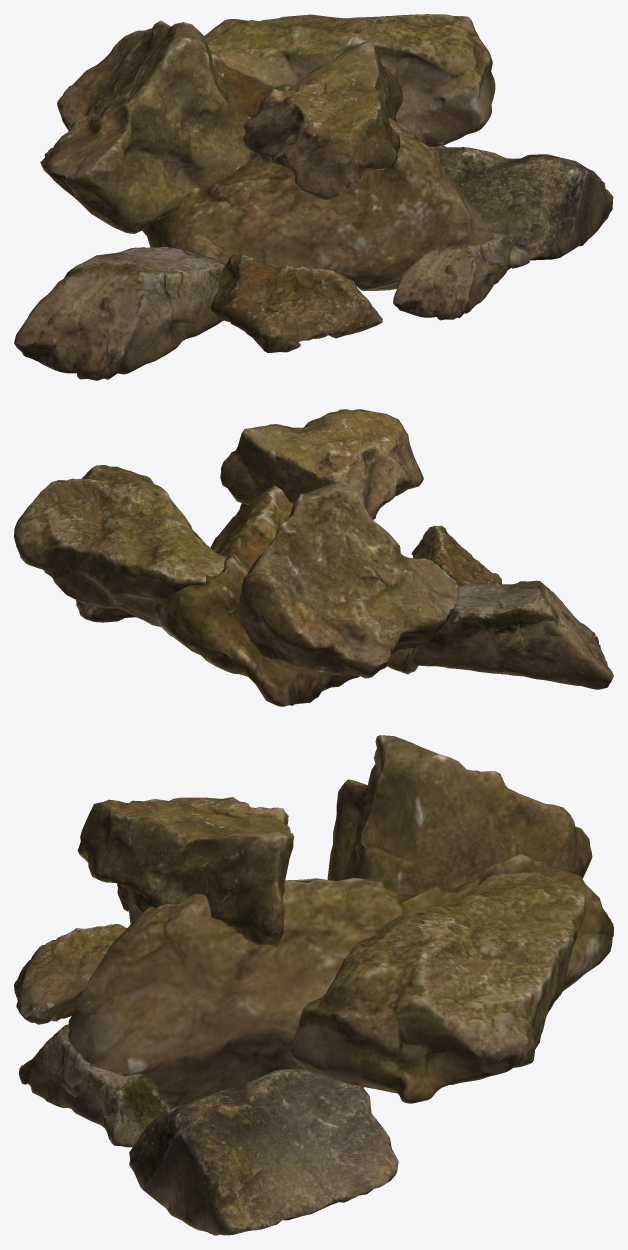
File: minerocks.glb
3 renders of one model, top to bottom at view 1: azimuth 30°, elevation 25°; view 2: azimuth 150°, elevation 25°; view 3: azimuth 270°, elevation 25°, orthographic. The views are drawn at different scales.
Visible parts, largest first — view 1: rock_moss_set_01_rock01.001, rock_moss_set_01_rock04.001, rock_moss_set_01_rock05.001, rock_moss_set_01_rock02.001, rock_moss_set_01_rock06.001, rock_moss_set_01_rock03.001, rock_moss_set_01_rock01.002, rock_moss_set_01_rock02.002; view 2: rock_moss_set_01_rock04.001, rock_moss_set_01_rock05.001, rock_moss_set_01_rock06.001, rock_moss_set_01_rock01.001, rock_moss_set_01_rock02.001, rock_moss_set_01_rock01.002, rock_moss_set_01_rock03.001; view 3: rock_moss_set_01_rock01.001, rock_moss_set_01_rock05.001, rock_moss_set_01_rock03.001, rock_moss_set_01_rock04.001, rock_moss_set_01_rock06.001, rock_moss_set_01_rock02.002, rock_moss_set_01_rock01.002.
Part boxes in pixels (<box>): rock_moss_set_01_rock01.001: <box>138,49,505,290</box>; rock_moss_set_01_rock04.001: <box>40,20,250,233</box>; rock_moss_set_01_rock05.001: <box>204,14,495,147</box>; rock_moss_set_01_rock02.001: <box>14,247,225,380</box>; rock_moss_set_01_rock06.001: <box>243,41,402,200</box>; rock_moss_set_01_rock03.001: <box>430,146,613,260</box>; rock_moss_set_01_rock01.002: <box>211,254,382,352</box>; rock_moss_set_01_rock02.002: <box>393,232,529,320</box>; rock_moss_set_01_rock04.001: <box>238,480,458,678</box>; rock_moss_set_01_rock05.001: <box>14,465,227,627</box>; rock_moss_set_01_rock06.001: <box>220,409,423,519</box>; rock_moss_set_01_rock01.001: <box>152,466,417,706</box>; rock_moss_set_01_rock02.001: <box>401,580,613,689</box>; rock_moss_set_01_rock01.002: <box>411,525,501,586</box>; rock_moss_set_01_rock03.001: <box>76,530,205,622</box>; rock_moss_set_01_rock01.001: <box>60,853,613,1110</box>; rock_moss_set_01_rock05.001: <box>291,872,586,1103</box>; rock_moss_set_01_rock03.001: <box>129,1067,398,1235</box>; rock_moss_set_01_rock04.001: <box>327,735,592,894</box>; rock_moss_set_01_rock06.001: <box>77,797,294,946</box>; rock_moss_set_01_rock02.002: <box>19,1016,171,1147</box>; rock_moss_set_01_rock01.002: <box>14,924,127,1024</box>.
Bounding box in the file's own units: 22.58 × 8.2 × 15.3.
Materials: 1 (1 with a texture image).
